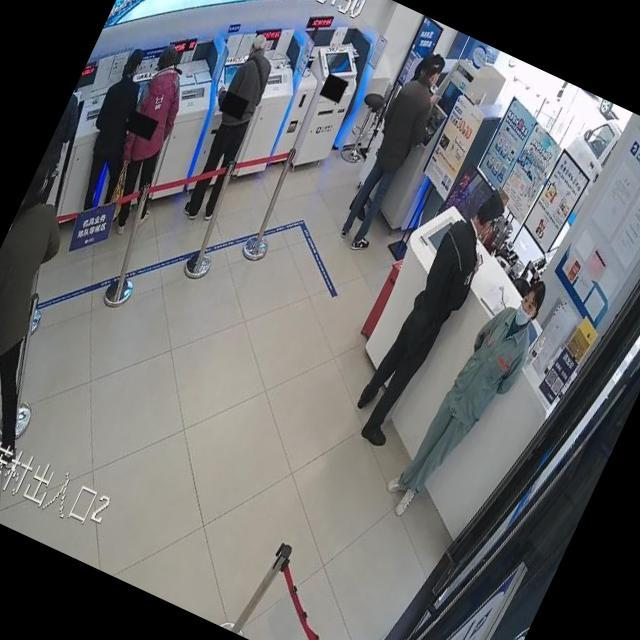person: (380, 261, 560, 536), (342, 176, 514, 456), (0, 161, 135, 472), (327, 46, 460, 260), (82, 39, 216, 241), (169, 29, 292, 228), (57, 43, 175, 219), (19, 75, 103, 218)
